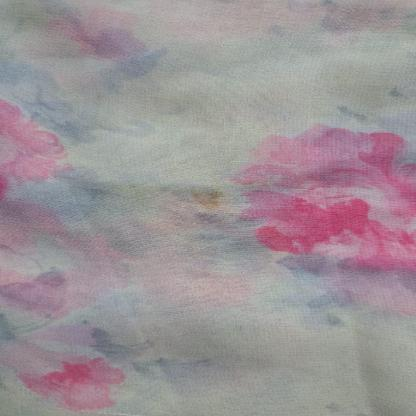spot: (176, 188, 231, 210), (120, 174, 150, 193)
